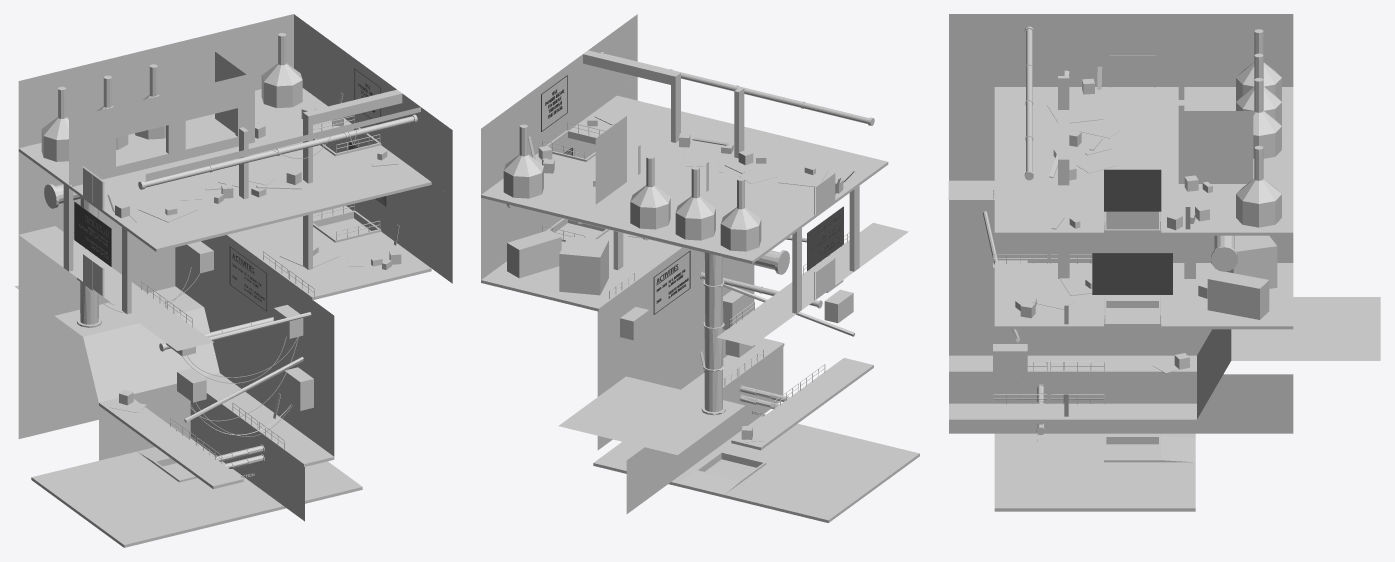
Rendered from test-room.glb.
The picture shows the model from 3 angles, left to right: view 1: azimuth 30°, elevation 25°; view 2: azimuth 150°, elevation 25°; view 3: azimuth 270°, elevation 25°; orthographic projection. The views are drawn at different scales.
Parts seen in each view (by area): view 1: Plane, Plane.002, Plane.019, Plane.032, Plane.024, Plane.025, Plane.001, Plane.011, Cube.033, Plane.008, Plane.030, Plane.012 (+22 smaller); view 2: Plane, Plane.032, Plane.024, Plane.002, Plane.025, Plane.030, Plane.011, Cube.033, Plane.012, Plane.008, Cylinder.006, Plane.001 (+20 smaller); view 3: Plane, Plane.001, Plane.013, Plane.032, Plane.031, Plane.011, Plane.025, Cube.033, Plane.002, Plane.010, Plane.036, Cube.030 (+16 smaller).
Part boxes in pixels (<box>): Plane: <box>18,88,431,251</box>; Plane.002: <box>18,14,452,196</box>; Plane.019: <box>18,151,175,438</box>; Plane.032: <box>31,438,362,547</box>; Plane.024: <box>175,235,334,456</box>; Plane.025: <box>14,285,219,460</box>; Plane.001: <box>69,50,254,186</box>; Plane.011: <box>224,206,431,300</box>; Cube.033: <box>99,373,334,489</box>; Plane.008: <box>324,135,452,283</box>; Plane.030: <box>190,396,304,521</box>; Plane.012: <box>19,226,213,350</box>; Plane: <box>481,95,888,263</box>; Plane.032: <box>593,415,919,522</box>; Plane.024: <box>597,248,754,450</box>; Plane.002: <box>481,14,637,194</box>; Plane.025: <box>558,376,744,454</box>; Plane.030: <box>626,347,783,513</box>; Plane.011: <box>481,218,684,311</box>; Cube.033: <box>681,338,873,450</box>; Plane.012: <box>716,222,908,346</box>; Plane.008: <box>481,80,637,279</box>; Cylinder.006: <box>701,252,725,415</box>; Plane.001: <box>590,116,803,224</box>; Plane: <box>994,87,1293,237</box>; Plane.001: <box>949,14,1253,183</box>; Plane.013: <box>949,200,1293,355</box>; Plane.032: <box>994,433,1195,511</box>; Plane.031: <box>949,374,1293,433</box>; Plane.011: <box>994,263,1293,331</box>; Plane.025: <box>1197,297,1380,418</box>; Cube.033: <box>949,355,1196,422</box>; Plane.002: <box>1178,14,1293,86</box>; Plane.010: <box>949,87,994,180</box>; Plane.036: <box>1092,253,1172,294</box>; Cube.030: <box>1207,270,1269,319</box>.
Size of the model in its own units: 33.5 by 37.5 by 37.61.
2 materials, 1 textured.
